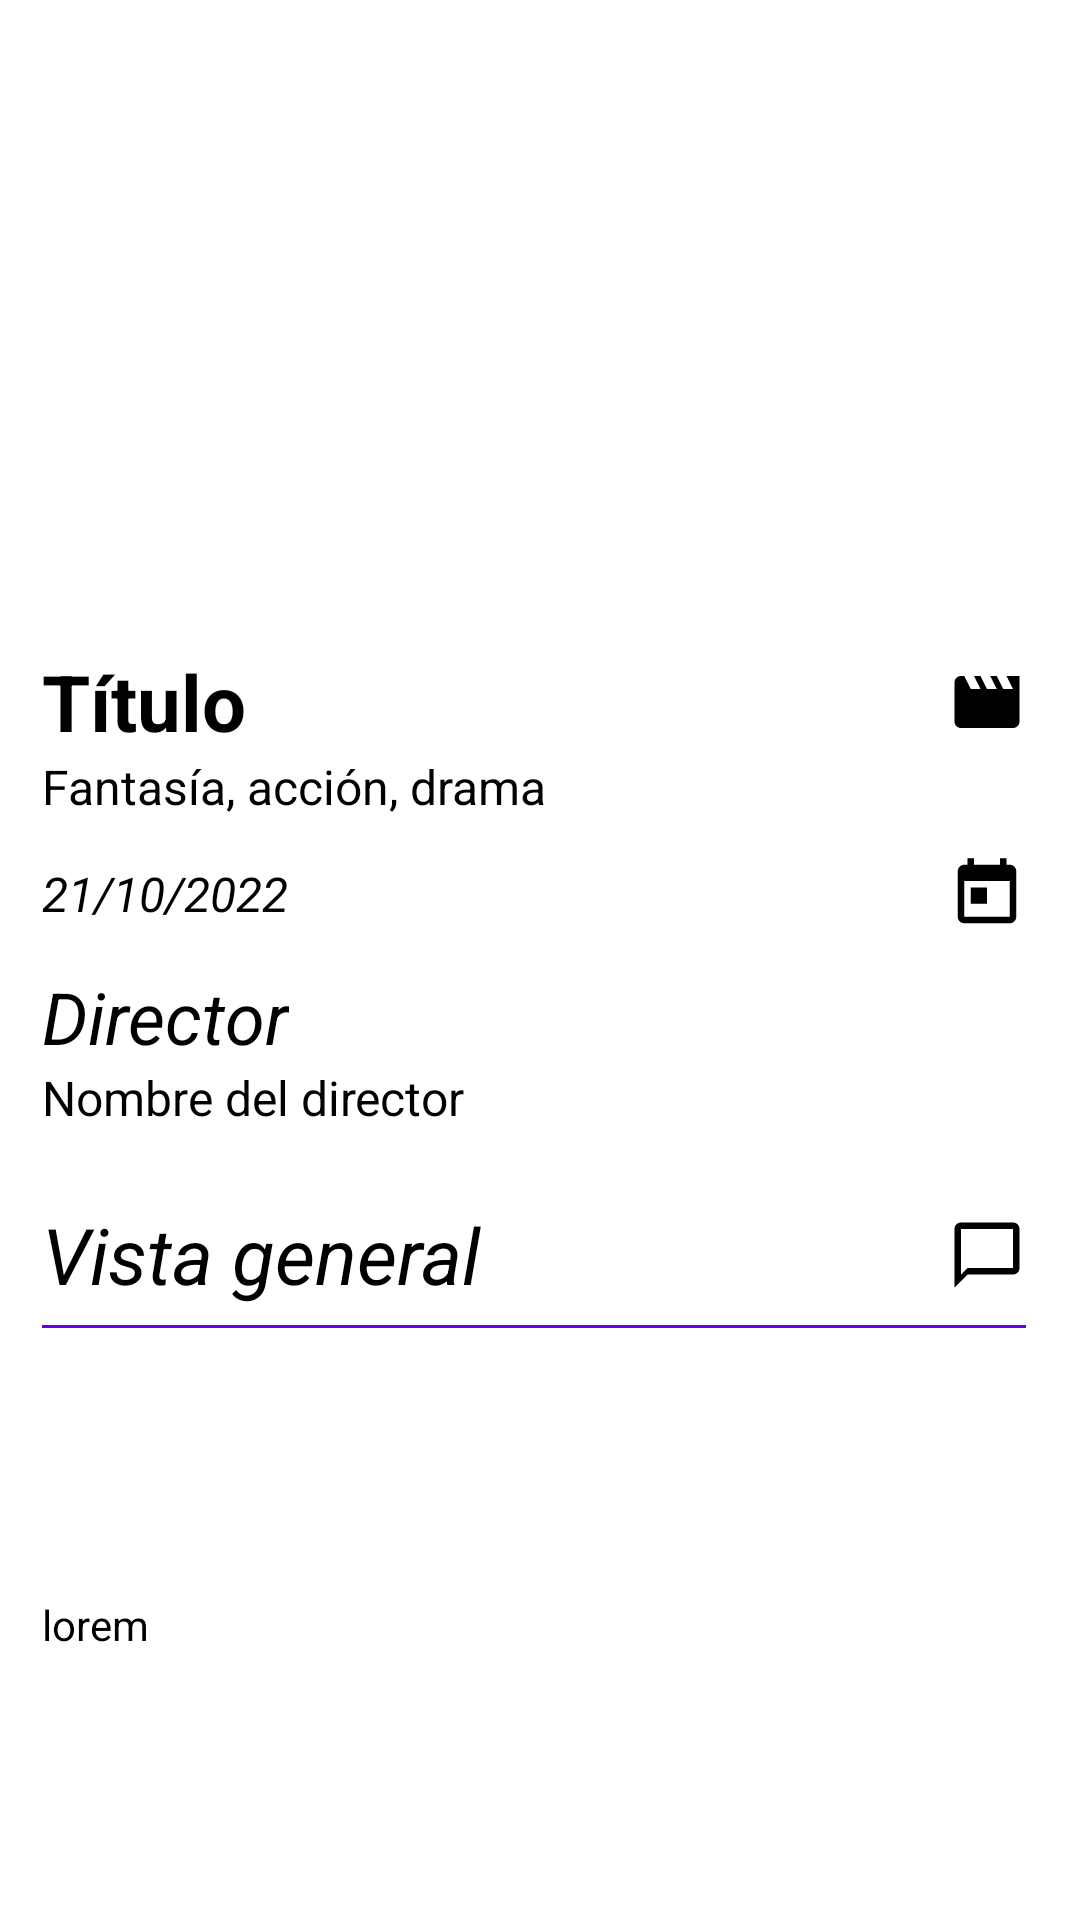

Point at icon controls on the screen. Image size 1080*1920, points as [x,y].
chat bubble: [987,1255]
movie: [987,702]
today: [987,891]
